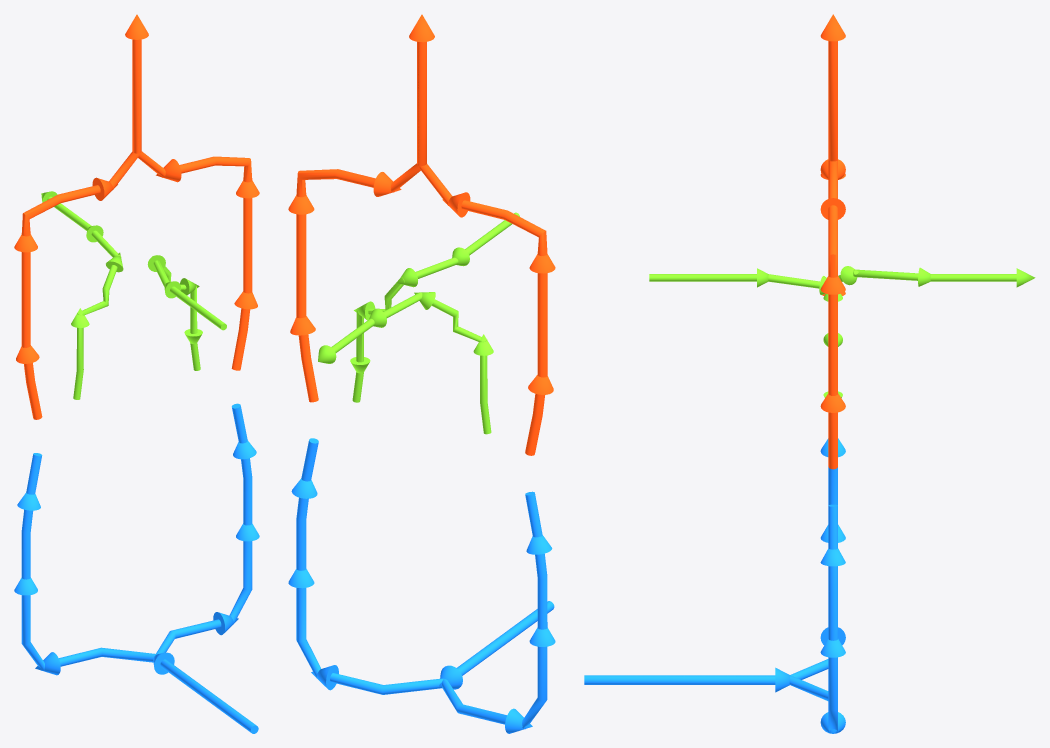
File: aodd_pump_flow.glb
3 renders of one model, left to right at view 1: azimuth 30°, elevation 25°; view 2: azimuth 150°, elevation 25°; view 3: azimuth 270°, elevation 25°, orthographic. The views are drawn at different scales.
Visible parts, largest first — view 1: discharge_+1, suction_+1, discharge_-1, suction_-1, air_exhaust, air_supply; view 2: suction_+1, discharge_+1, discharge_-1, suction_-1, air_exhaust, air_supply; view 3: discharge_+1, suction_+1, suction_-1, air_exhaust, air_supply, discharge_-1.
Boxes of the visible parts, box(x1,y1,x2,y2) form: discharge_+1: box(125, 14, 259, 370); suction_+1: box(153, 403, 259, 733); discharge_-1: box(14, 39, 141, 419); suction_-1: box(14, 453, 256, 729); air_exhaust: box(41, 191, 123, 399); air_supply: box(147, 255, 226, 370); suction_+1: box(288, 438, 554, 694); discharge_+1: box(288, 14, 434, 402); discharge_-1: box(417, 41, 555, 455); suction_-1: box(442, 491, 555, 733); air_exhaust: box(318, 292, 493, 434); air_supply: box(350, 212, 519, 402); discharge_+1: box(820, 14, 845, 469); suction_+1: box(584, 504, 845, 733); suction_-1: box(584, 438, 845, 684); air_exhaust: box(823, 266, 1035, 301); air_supply: box(649, 268, 842, 397); discharge_-1: box(820, 41, 845, 295).
Bounding box in the file's own units: 0.2734 × 0.6907 × 0.417.
